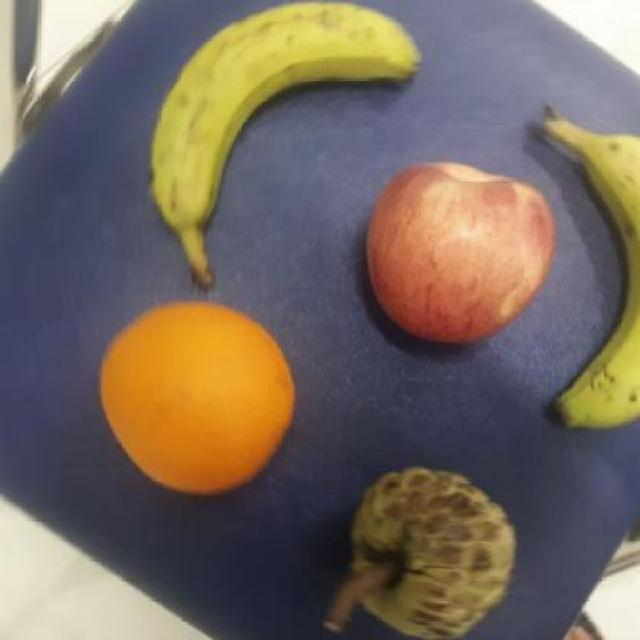apple: (358, 161, 560, 354)
banana: (148, 0, 421, 229), (546, 132, 640, 436)
oren: (96, 298, 295, 494)
sugar apple: (348, 466, 520, 640)
